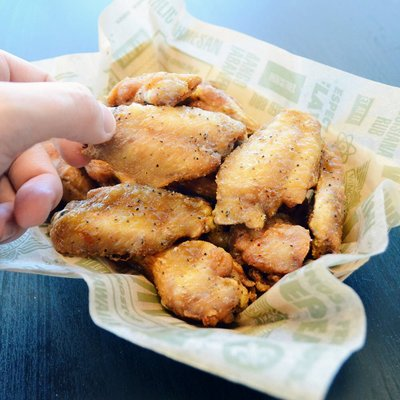pizza: (0, 47, 117, 245)
